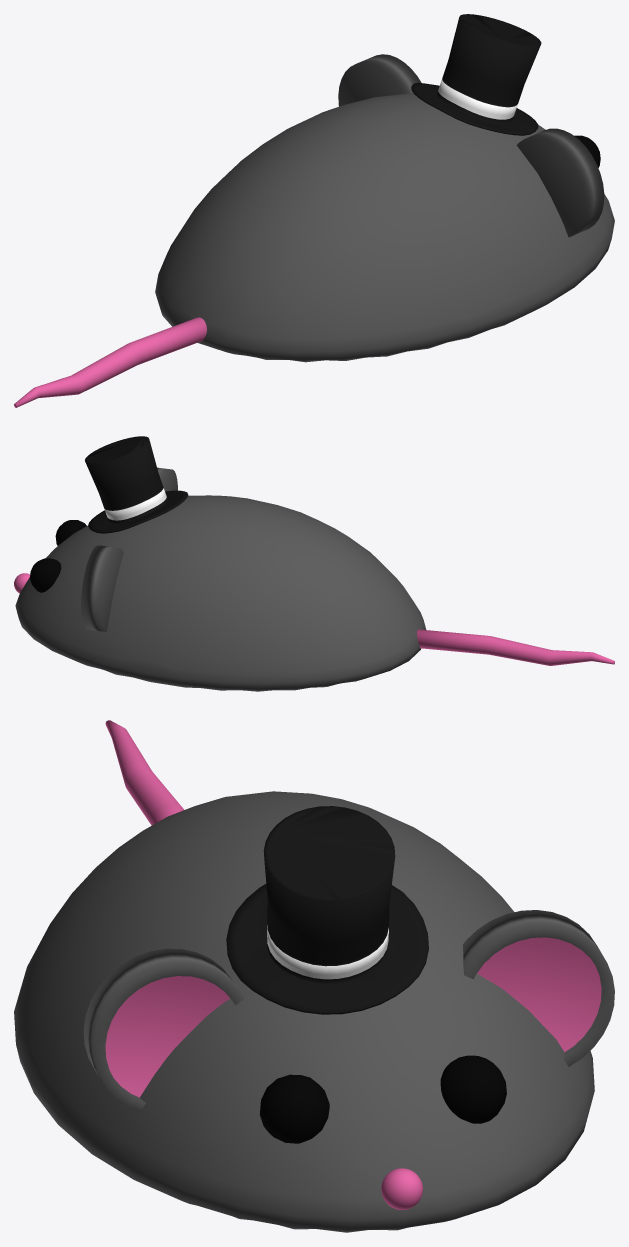
Rendered from Tim Cheese.fbx.
3 renders of one model, top to bottom at view 1: azimuth 30°, elevation 25°; view 2: azimuth 150°, elevation 25°; view 3: azimuth 270°, elevation 25°, orthographic. The views are drawn at different scales.
Visible parts, largest first — view 1: Sphere, Cylinder.002, Cylinder, Cylinder.001; view 2: Sphere, Cylinder.002, Cylinder.001, Cylinder, Sphere.001; view 3: Sphere, Cylinder.002, Cylinder, Sphere.001, Cylinder.001, Sphere.002.
Boxes of the visible parts, x1,y1,x2,y2 form: Sphere: (155,93,614,362); Cylinder.002: (411,14,541,135); Cylinder: (338,54,604,237); Cylinder.001: (14,317,206,407); Sphere: (15,495,426,691); Cylinder.002: (85,436,188,533); Cylinder.001: (417,629,614,665); Cylinder: (81,467,177,631); Sphere.001: (30,520,86,592); Sphere: (14,791,594,1232); Cylinder.002: (226,806,428,1014); Cylinder: (83,910,614,1112); Sphere.001: (259,1055,506,1143); Cylinder.001: (105,720,184,825); Sphere.002: (381,1168,422,1209).
Bounding box in the file's own units: 383 × 129 × 198.
